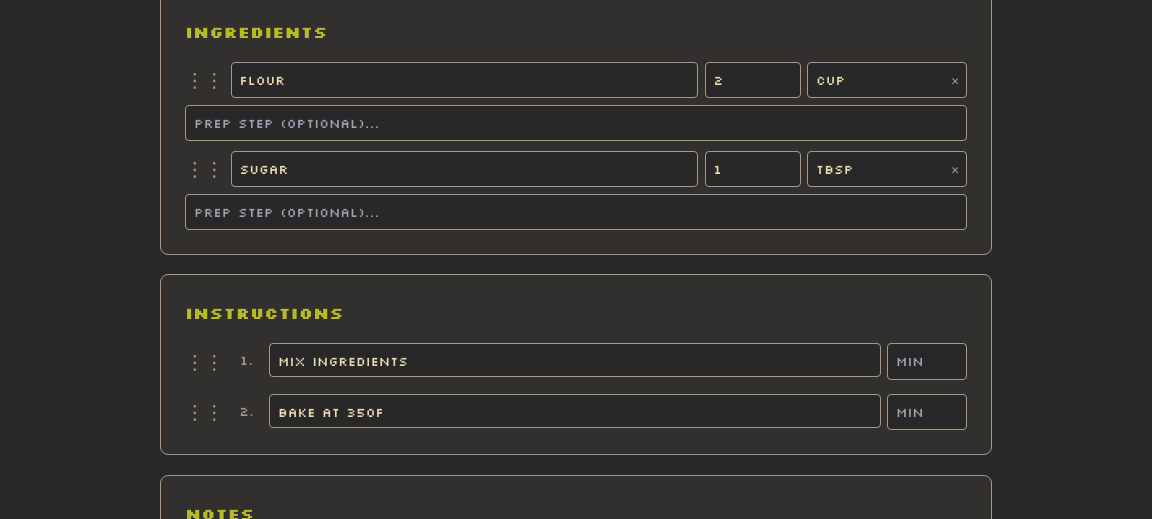
Scenario: RecipeForm › Instruction CRUD › removes an instruction and renumbers remaining
This screenshot has width=1152, height=519.
(page scrolled)
Expected: the text "1." is shown, [240,352,253,368]
Expected: the text "2." is shown, [239,403,254,419]
# Focus the first instruction to activate menu bar buttons
Click the 1st text box showing "Mix ingredients" at (575, 360), box [269,343,880,377]
(page scrolled)
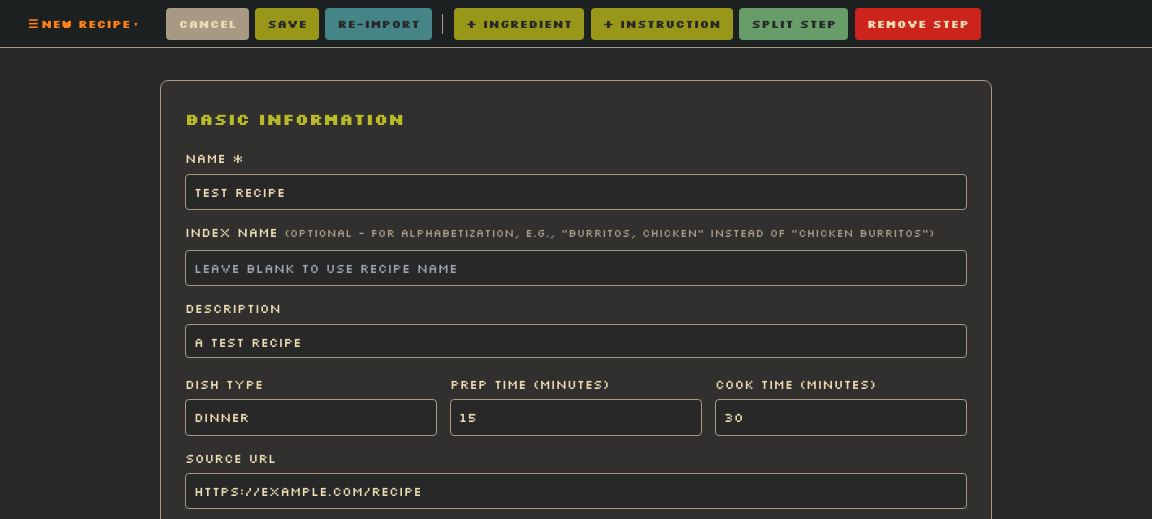
Click the button "Remove Step" at (918, 24), box [855,8,981,40]
(page scrolled)
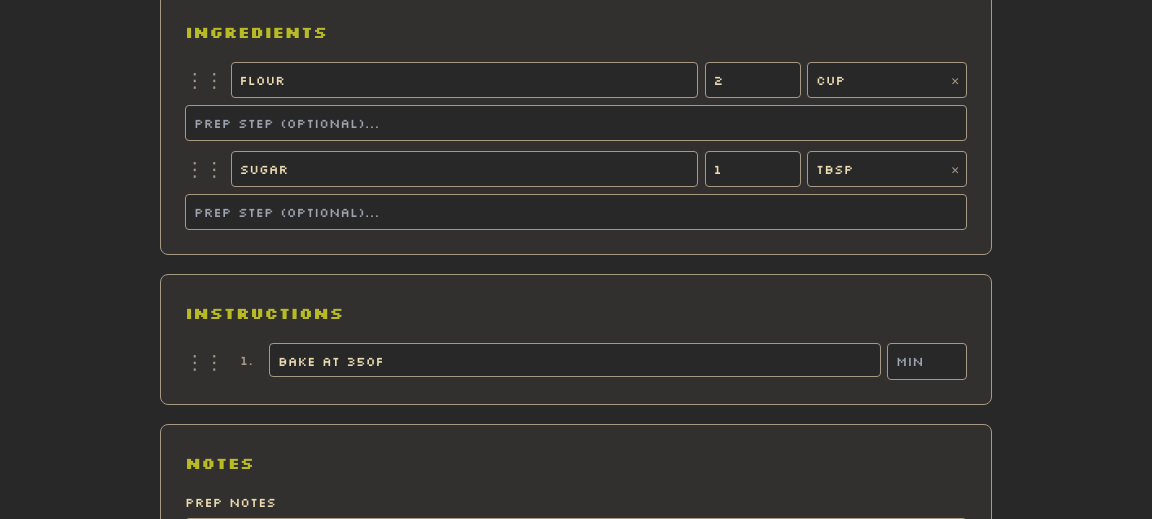
Expected: the text "1." is shown, [240,352,253,368]
Expected: the text box showing "Bake at 350F" is shown, [269,343,880,377]
